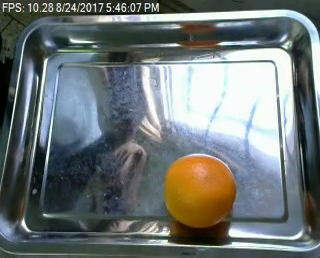Orange: (163, 152, 238, 227)
